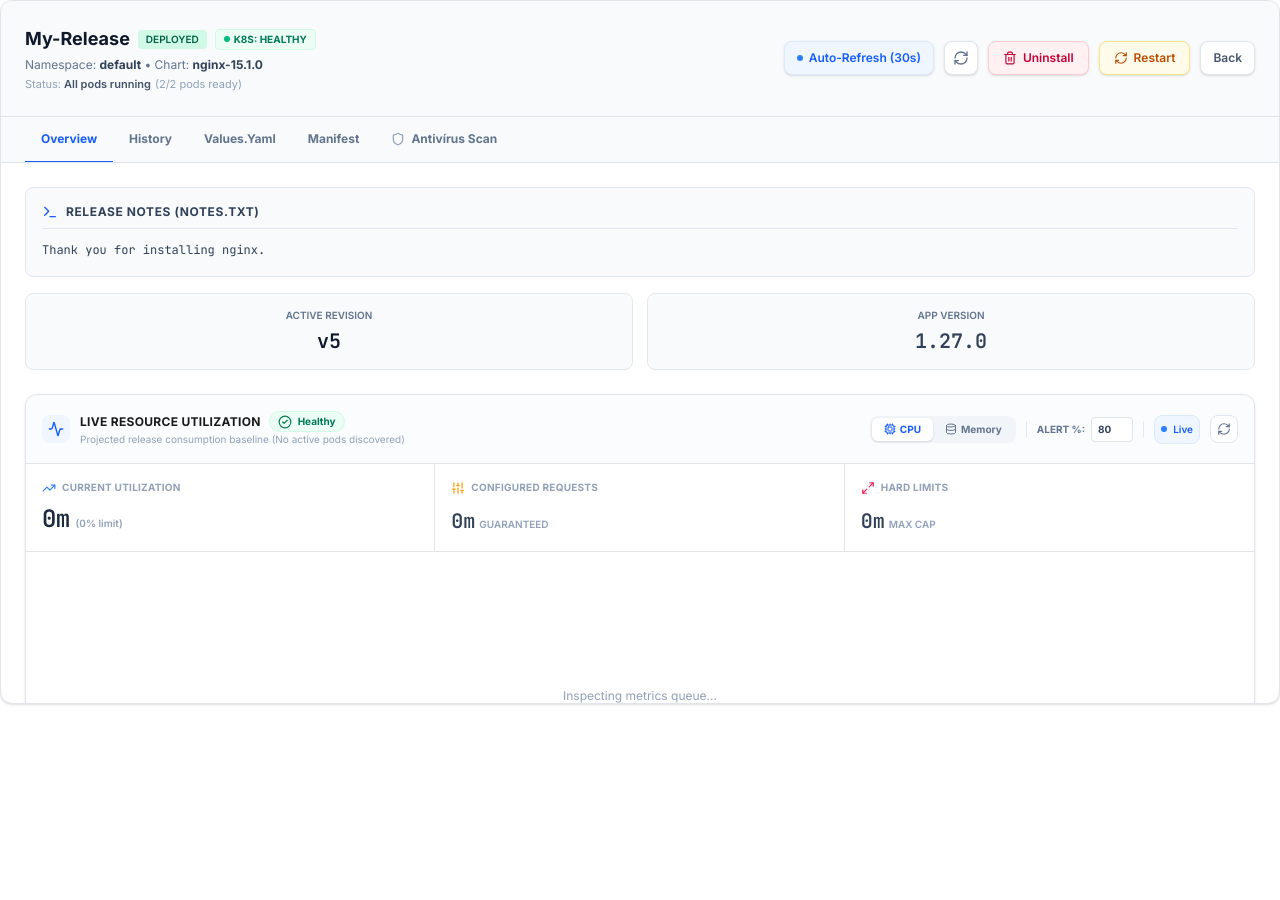
Scenario: ReleaseDetails › switching to History tab shows revision timeline
Check: the text "history" is shown, box x1=129 y1=131 x2=172 y2=147
Click the button "history": [151, 140] box x1=113 y1=117 x2=188 y2=163
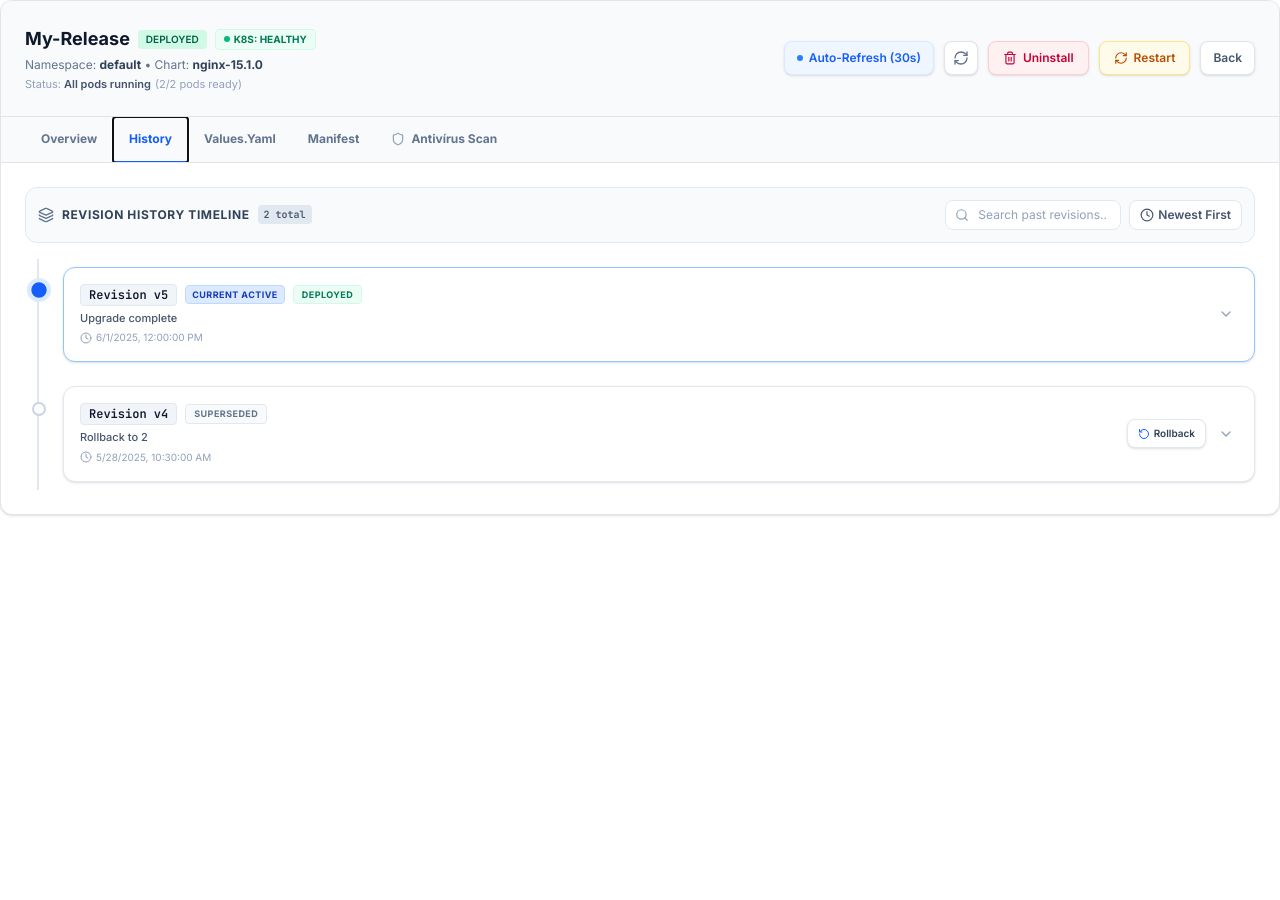
Check: the heading "Revision History Timeline" is shown, box x1=62 y1=207 x2=250 y2=223
